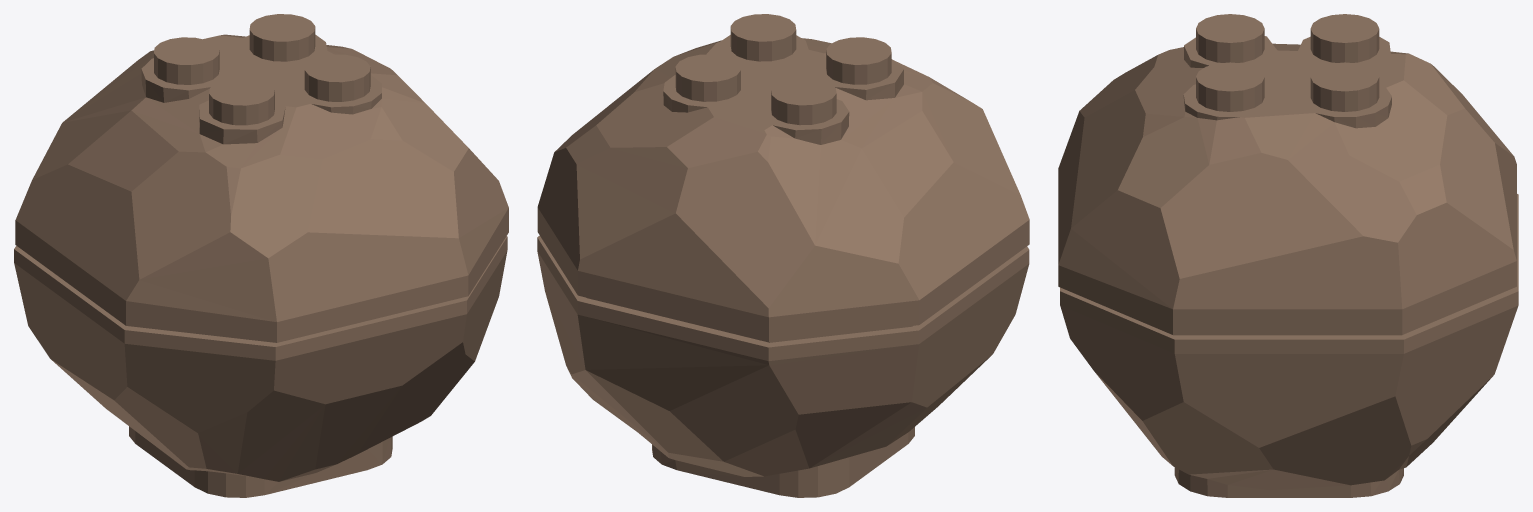
File: ore_big.fbx
The picture shows the model from 3 angles, left to right: view 1: azimuth 30°, elevation 25°; view 2: azimuth 150°, elevation 25°; view 3: azimuth 270°, elevation 25°; orthographic projection. The views are drawn at different scales.
Visible parts, largest first — view 1: 30293_1_30293_1n; view 2: 30293_1_30293_1n; view 3: 30293_1_30293_1n.
Boxes of the visible parts, x1,y1,x2,y2 form: 30293_1_30293_1n: [14, 14, 508, 497]; 30293_1_30293_1n: [537, 14, 1029, 497]; 30293_1_30293_1n: [1058, 14, 1518, 497].
Size of the model in its own units: 2.39 by 2.28 by 2.39.
